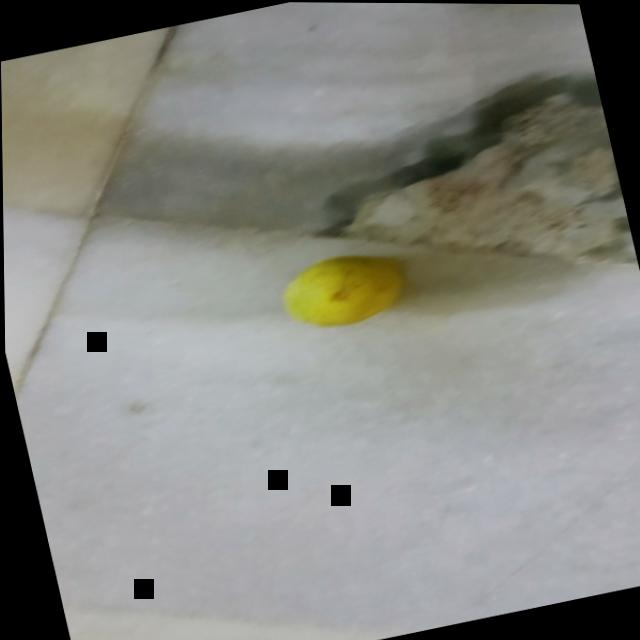lemon: (271, 230, 435, 350)
